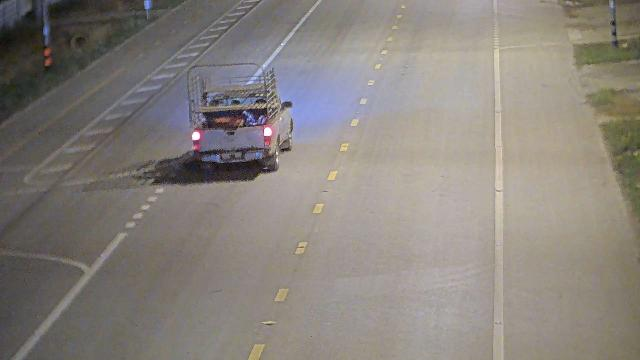pickup-truck: (185, 61, 294, 173)
